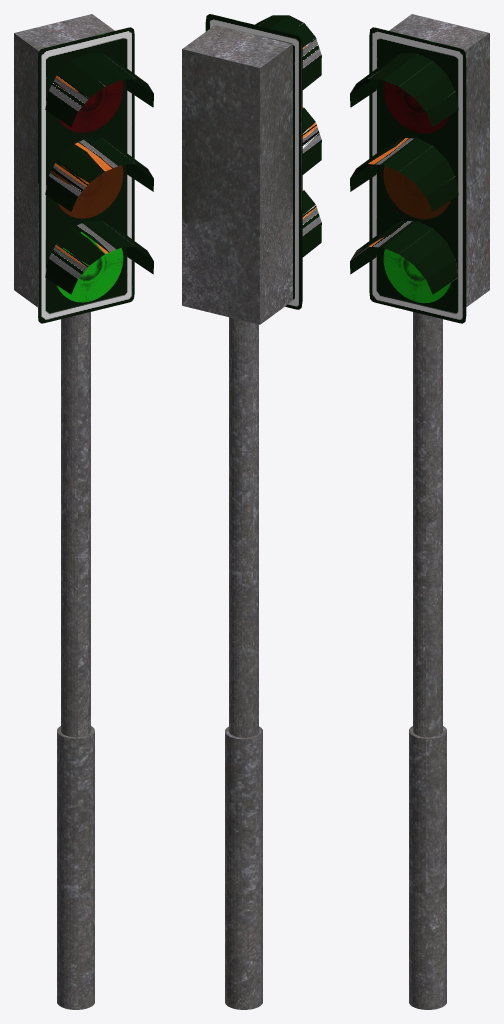
Rendered from Ampel.obj.
3 views of the same model, side by side, from view 1: azimuth 30°, elevation 25°; view 2: azimuth 150°, elevation 25°; view 3: azimuth 330°, elevation 25° (orthographic).
Size of the model in its own units: 1.19 by 11.45 by 1.46.
